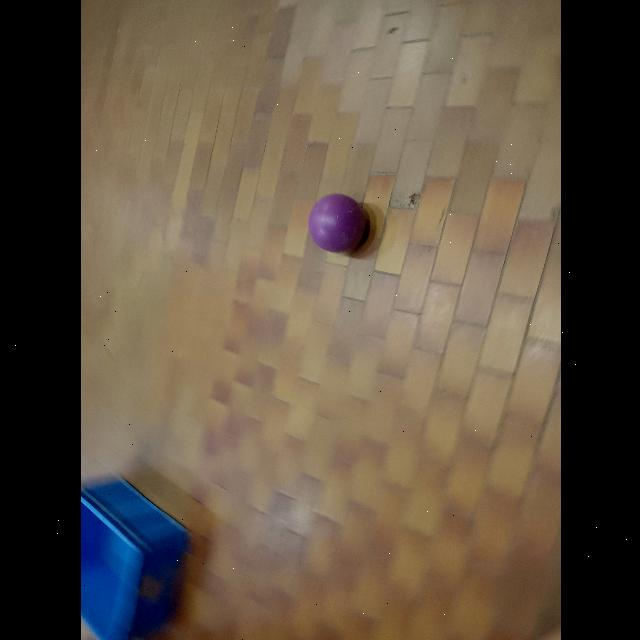P: (307, 194, 369, 256)
